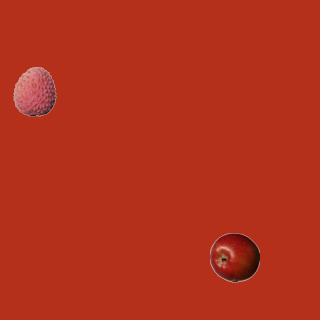Apple Braeburn: (209, 232, 259, 282)
Lychee: (9, 66, 59, 116)
